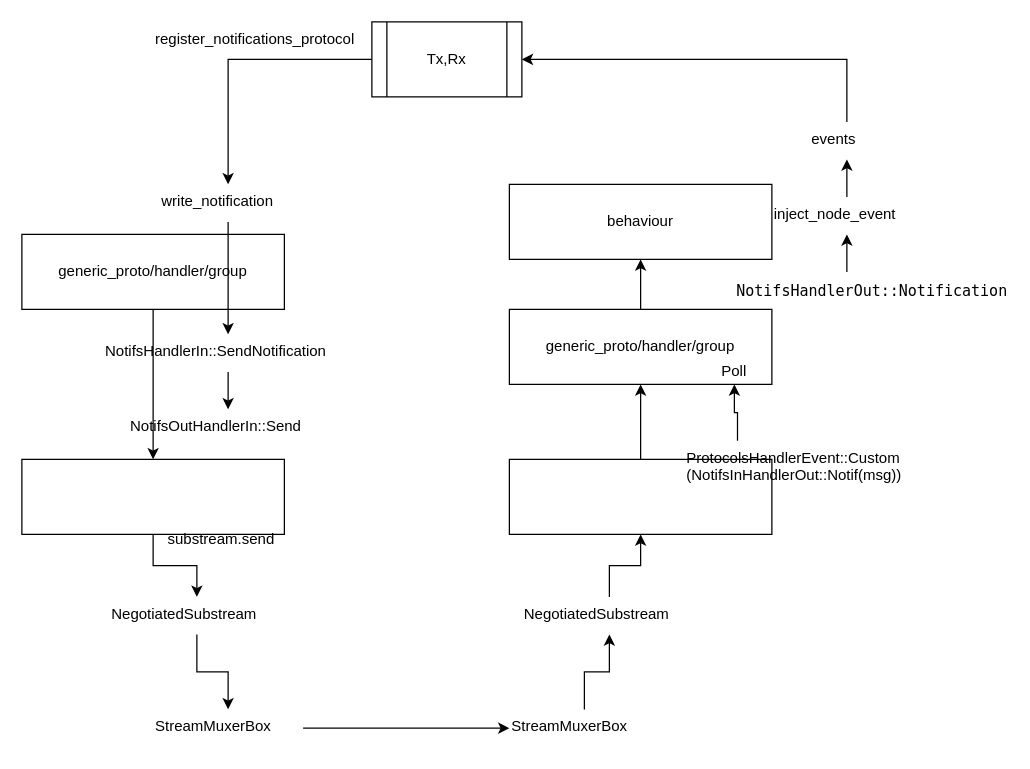
This 1030x769 diagram has some shape labels left out. Here are the shapes that lost their labels. From the top down, the centre of each, then its label:
(x=152, y=496): generic_proto/handler/notif_out
(x=640, y=496): generic_proto/handler/notif_in
